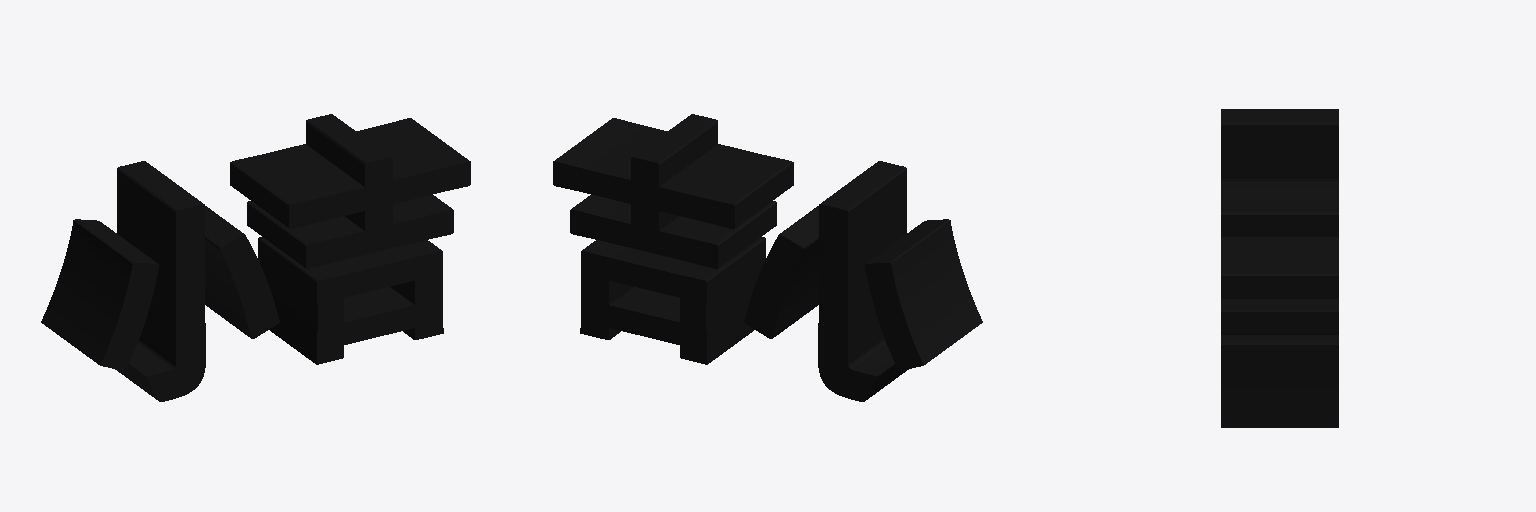
File: shokichi.obj
3 renders of one model, left to right at view 1: azimuth 30°, elevation 25°; view 2: azimuth 150°, elevation 25°; view 3: azimuth 270°, elevation 25°, orthographic.
Visible parts, largest first — view 1: Curve.001; view 2: Curve.001; view 3: Curve.001.
Part boxes in pixels (x1,y1,x2,y2): Curve.001: (41,114,470,401); Curve.001: (553,114,982,401); Curve.001: (1221,109,1338,427).
Bounding box in the file's own units: 0.3859 × 0.1885 × 0.1067.